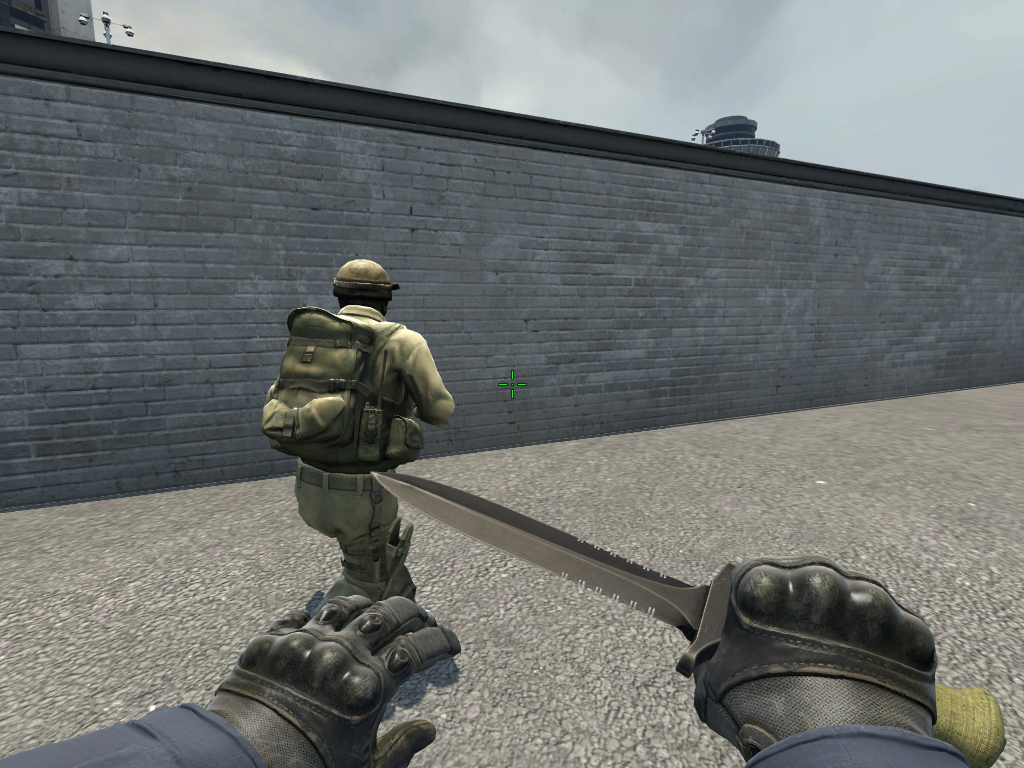ct head: (327, 253, 400, 331)
